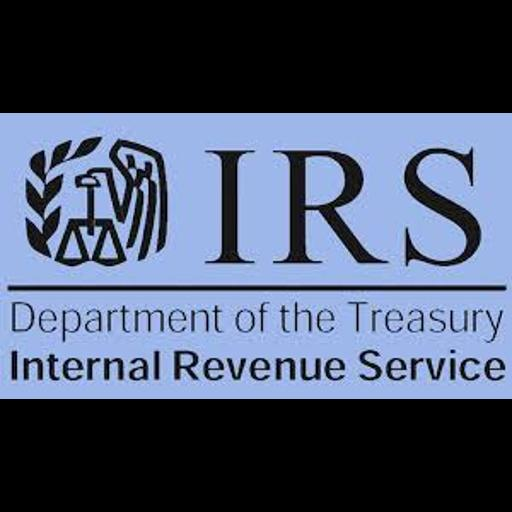IRS: (0, 113, 512, 399)
